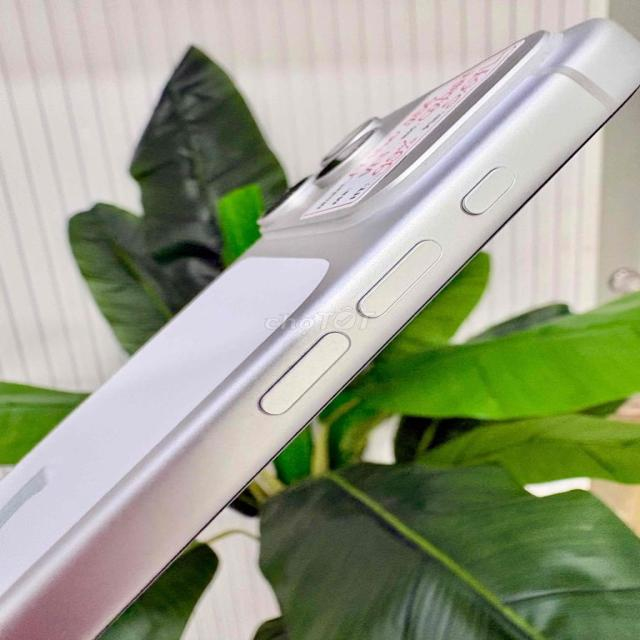gen_17: (0, 19, 639, 639), (301, 43, 519, 219)
